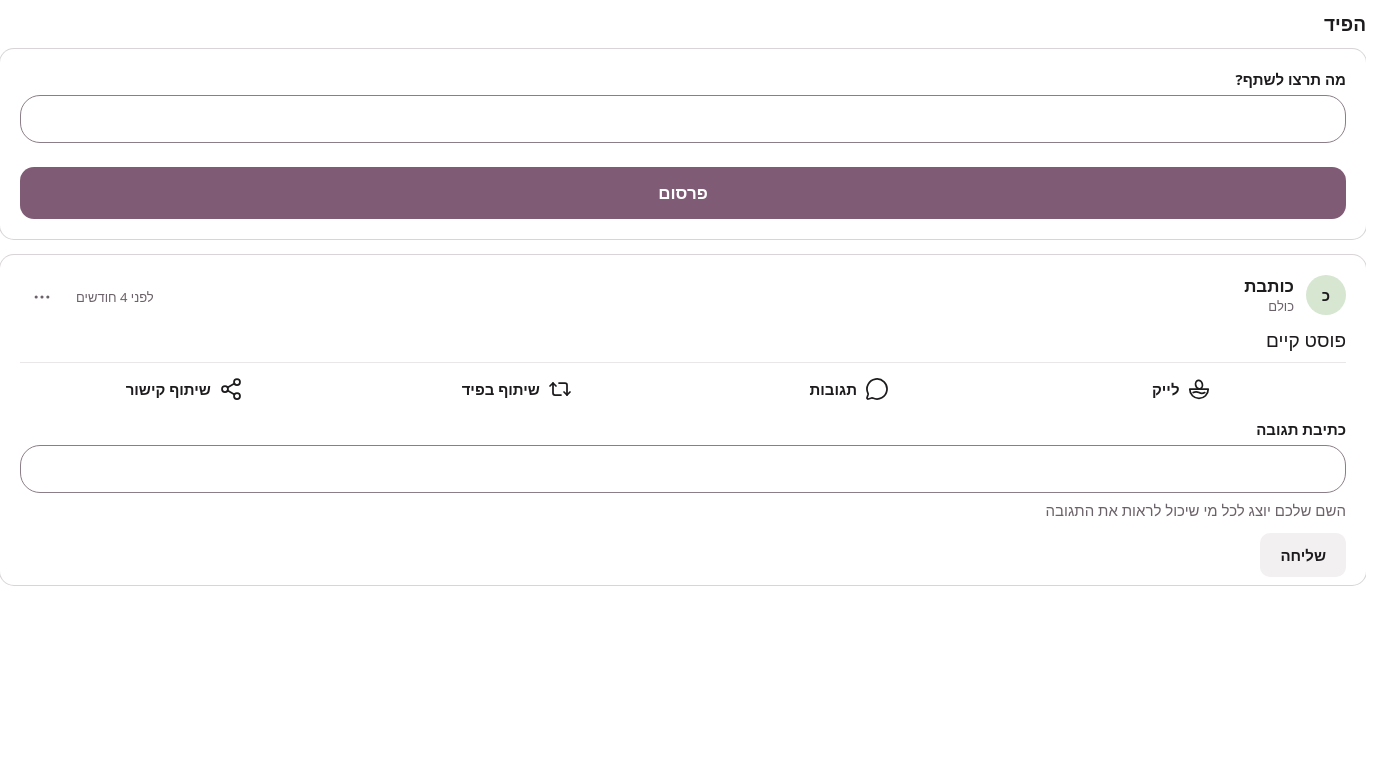
Test: F3.1b c15 [OP-033 Afik 1א] the audience choice and its memory › [c15] the radio group "מי יראה את הפוסט" has "כולם" checked and "חברים בלבד" when nothing is stored
expect the form named "כתיבת פוסט" is shown: met, box top-left (20, 69), bottom-right (1346, 219)
Click the text box labelled "מה תרצו לשתף?".
click(683, 119)  # box top-left (20, 95), bottom-right (1346, 143)
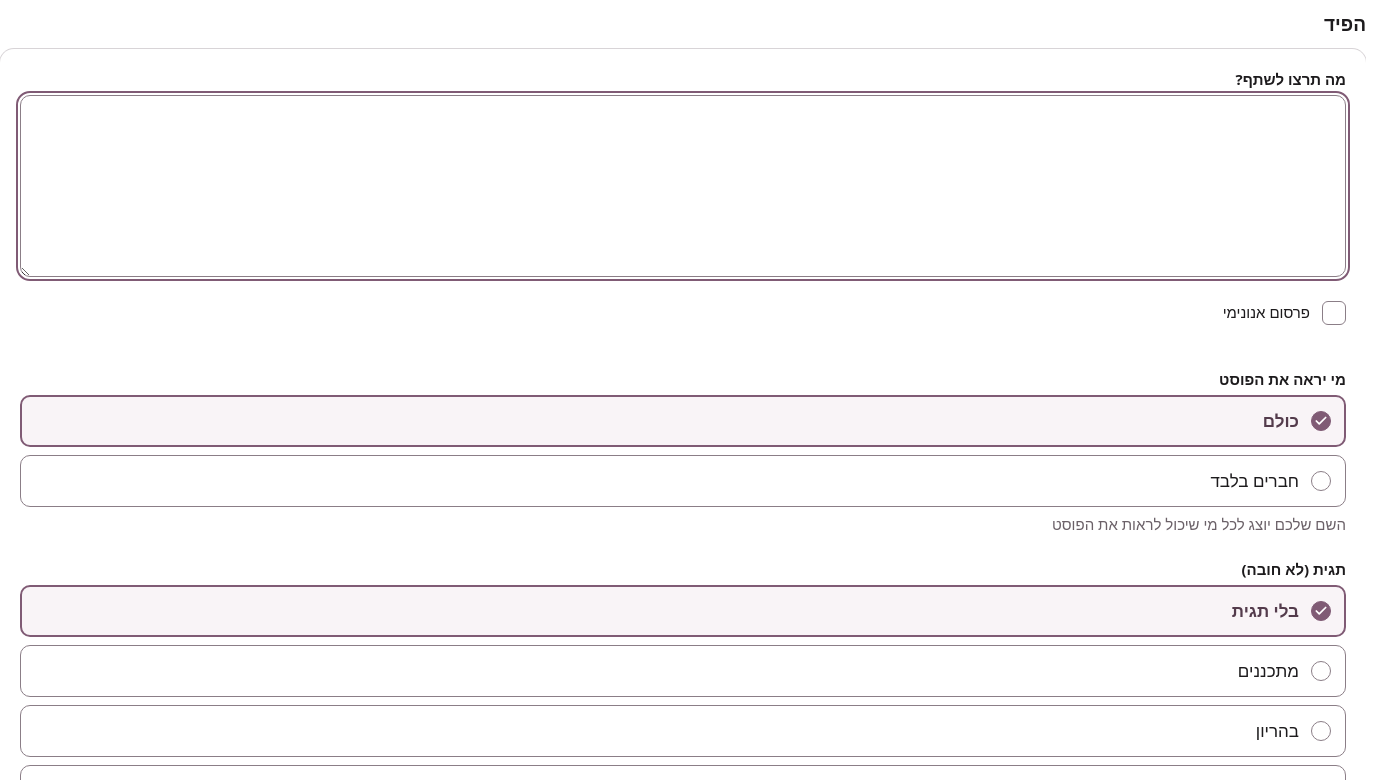
expect the element "מי יראה את הפוסט" is shown: met, box top-left (20, 369), bottom-right (1346, 507)
expect the radio button labelled "כולם" is checked: met, box top-left (20, 395), bottom-right (1346, 447)
expect the radio button labelled "חברים בלבד" is not checked: met, box top-left (20, 455), bottom-right (1346, 507)
